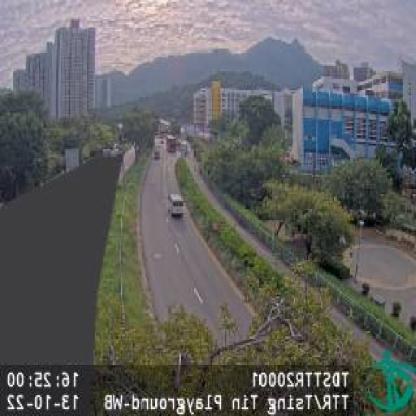Car: (166, 193, 184, 220)
